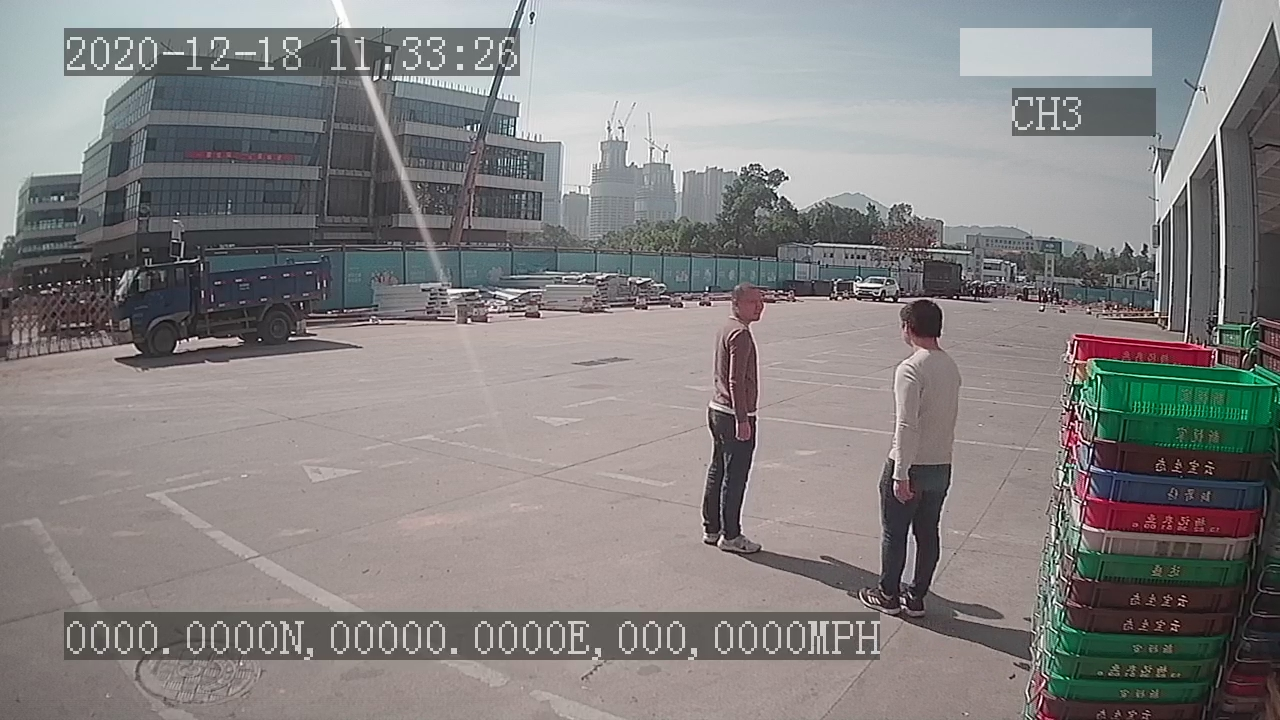person: (857, 297, 969, 615), (694, 281, 774, 555)
